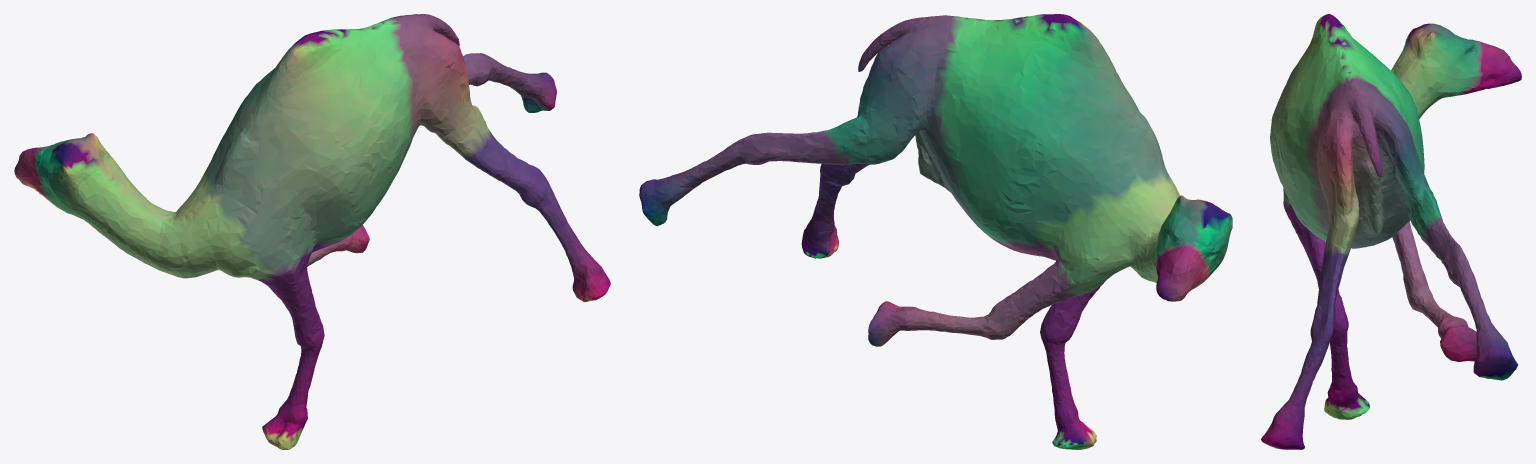
The model's file is camel-7.off.obj.
The picture shows the model from 3 angles, left to right: view 1: azimuth 30°, elevation 25°; view 2: azimuth 150°, elevation 25°; view 3: azimuth 270°, elevation 25°; orthographic projection. The views are drawn at different scales.
Bounding box in the file's own units: 1.54 × 1.13 × 0.6499.
